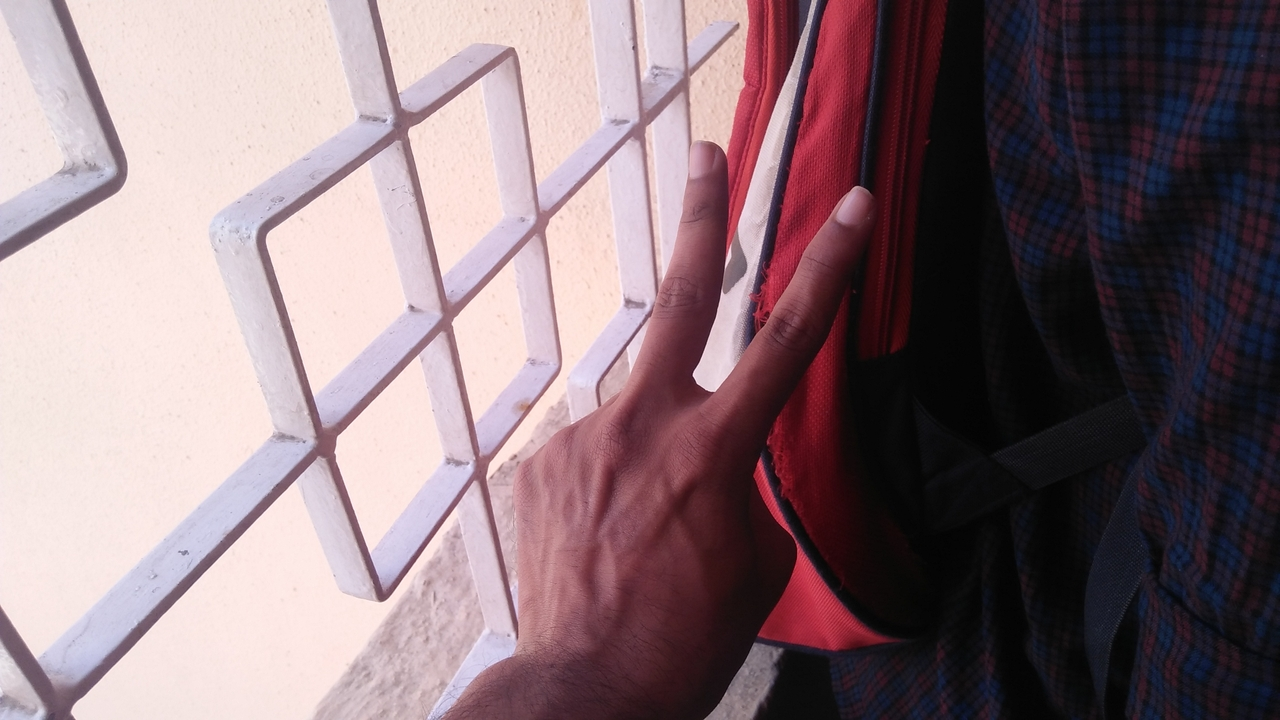fingertip: (824, 174, 882, 232), (680, 134, 734, 184)
